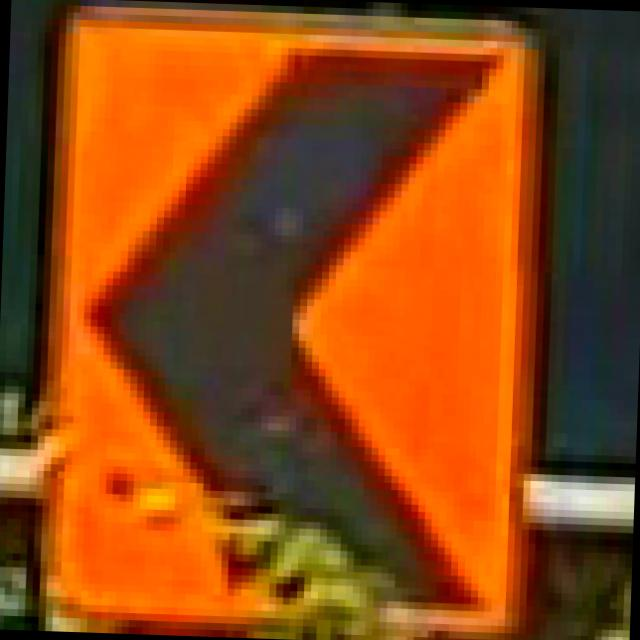curveleft_sign: (31, 4, 539, 640)
